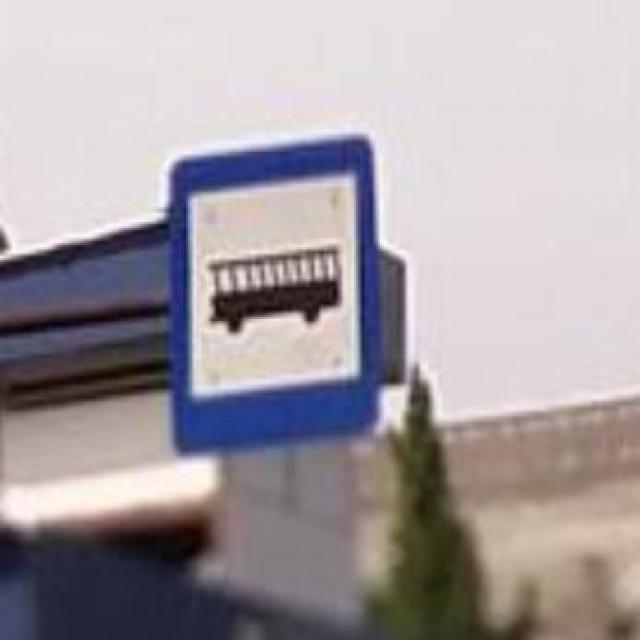traffic sign: (166, 133, 380, 452)
